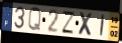2: (47, 9, 60, 34)
3: (13, 6, 26, 30)
I: (98, 13, 106, 38)
Q: (27, 6, 42, 32)
X: (78, 11, 94, 38)
Z: (60, 10, 76, 35)
